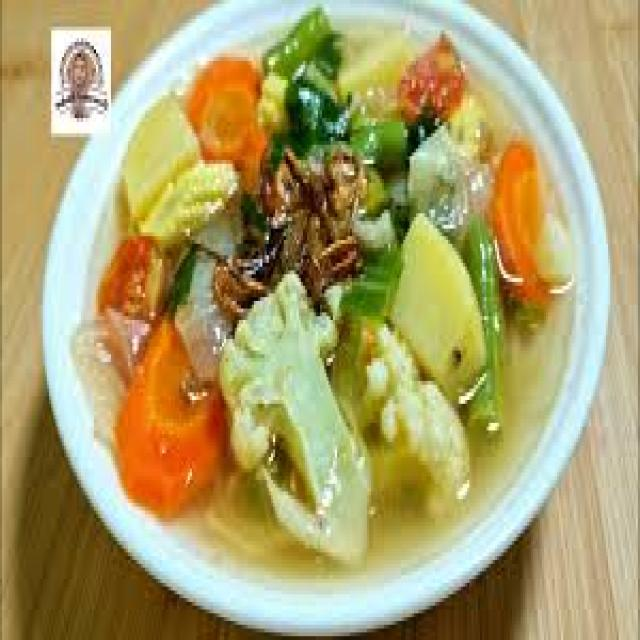sop: (98, 8, 580, 587)
